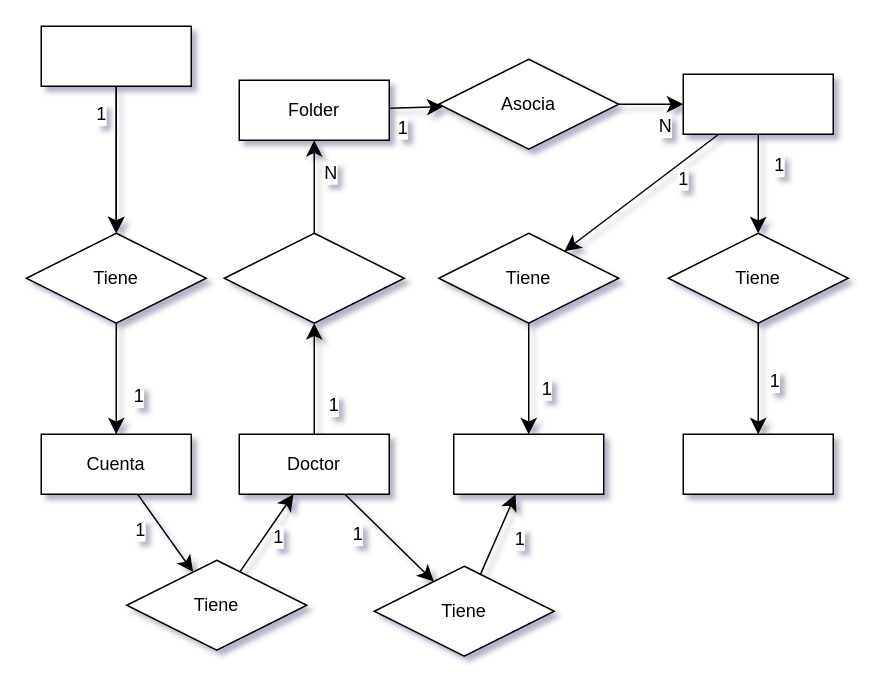
The diagram is 884 pixels wide and 692 high, and some of its shapes have lost their labels. The shapes that lost their labels are listed below. From the top down, each one's box as (x1, y1, x2, y2) in pixels, then its label:
(40, 25, 191, 86): User Laravel
(682, 73, 833, 134): Paciente
(223, 232, 404, 323): Administra
(452, 433, 604, 494): Informacion
(682, 433, 833, 494): Antecedente
